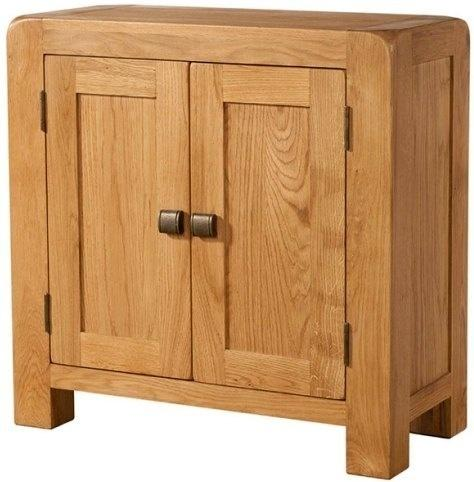cabinet_door: (190, 60, 344, 395), (46, 63, 188, 374)
handle: (191, 204, 218, 245), (156, 207, 182, 244)
